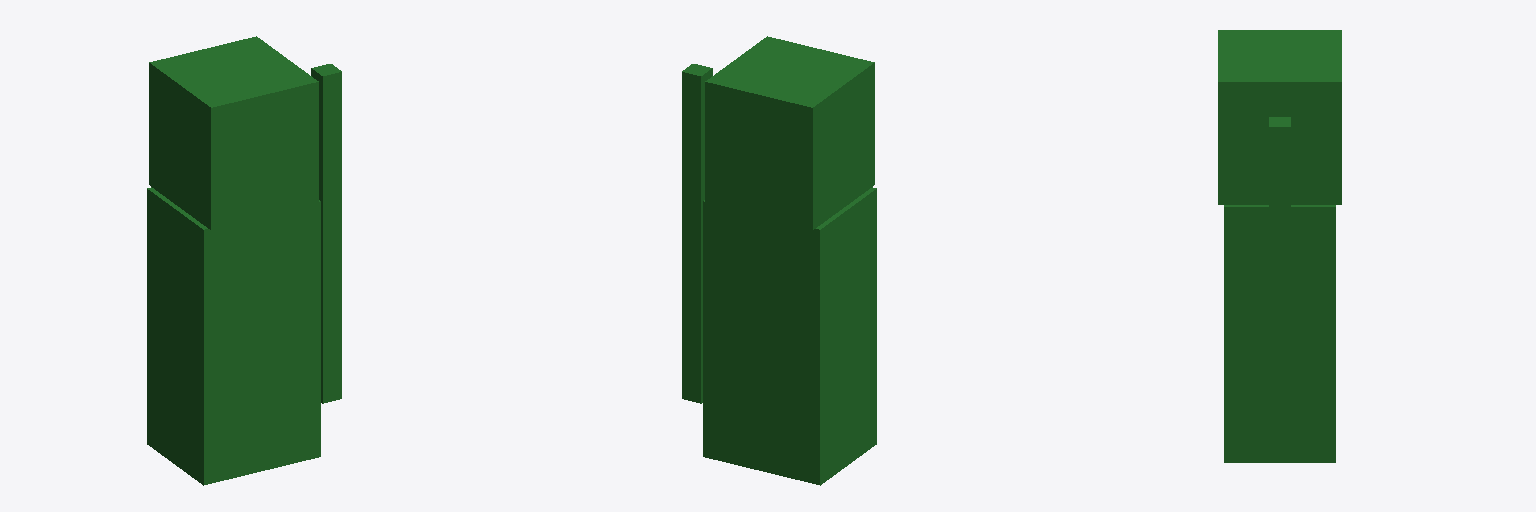
The model's file is character-archer.obj.
The picture shows the model from 3 angles: view 1: azimuth 30°, elevation 25°; view 2: azimuth 150°, elevation 25°; view 3: azimuth 270°, elevation 25°; orthographic projection.
Visible parts, largest first — view 1: Archer; view 2: Archer; view 3: Archer.
Part boxes in pixels (x1,y1,x2,y2): Archer: (147, 36, 341, 485); Archer: (682, 36, 876, 485); Archer: (1218, 30, 1341, 462).
Size of the model in its own units: 0.33 by 0.74 by 0.22.